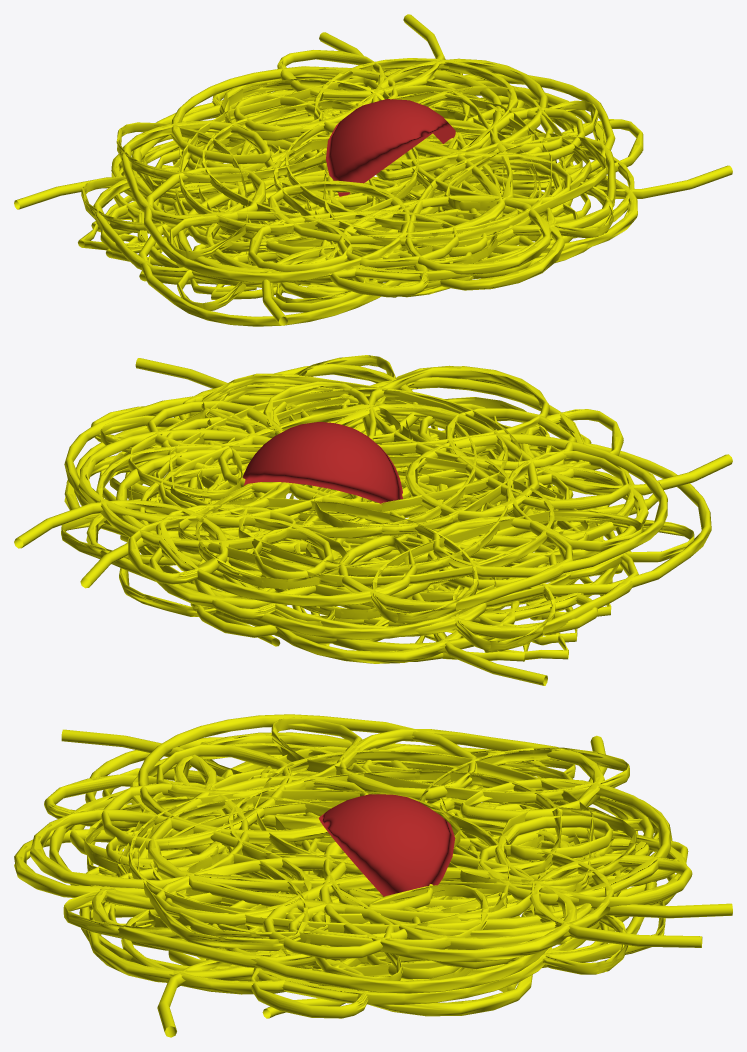
The model's file is FBD.fbx.
The picture shows the model from 3 angles, top to bottom: view 1: azimuth 30°, elevation 25°; view 2: azimuth 150°, elevation 25°; view 3: azimuth 270°, elevation 25°; orthographic projection. The views are drawn at different scales.
Visible parts, largest first — view 1: polySurface2, polySurface6, polySurface7, polySurface8, polySurface3, polySurface5, polySurface4; view 2: polySurface2, polySurface6, polySurface7, polySurface5, polySurface8, polySurface3, polySurface4; view 3: polySurface2, polySurface6, polySurface8, polySurface7, polySurface3, polySurface5, polySurface4.
Part boxes in pixels (x1,y1,x2,y2): polySurface2: (116,14,606,282); polySurface6: (143,73,616,325); polySurface7: (81,32,591,326); polySurface8: (132,68,732,297); polySurface3: (326,99,455,196); polySurface5: (14,96,605,302); polySurface4: (78,162,603,299); polySurface2: (14,366,667,623); polySurface6: (64,355,732,613); polySurface7: (80,365,711,651); polySurface5: (64,425,627,685); polySurface8: (61,358,630,639); polySurface3: (243,422,403,504); polySurface4: (120,493,622,661); polySurface2: (30,714,702,962); polySurface6: (44,729,686,993); polySurface8: (86,756,672,1037); polySurface7: (14,737,732,939); polySurface3: (319,794,455,896); polySurface5: (79,735,675,1016); polySurface4: (158,856,629,1018).
Bounding box in the file's own units: 4.9 × 0.9432 × 4.56.
